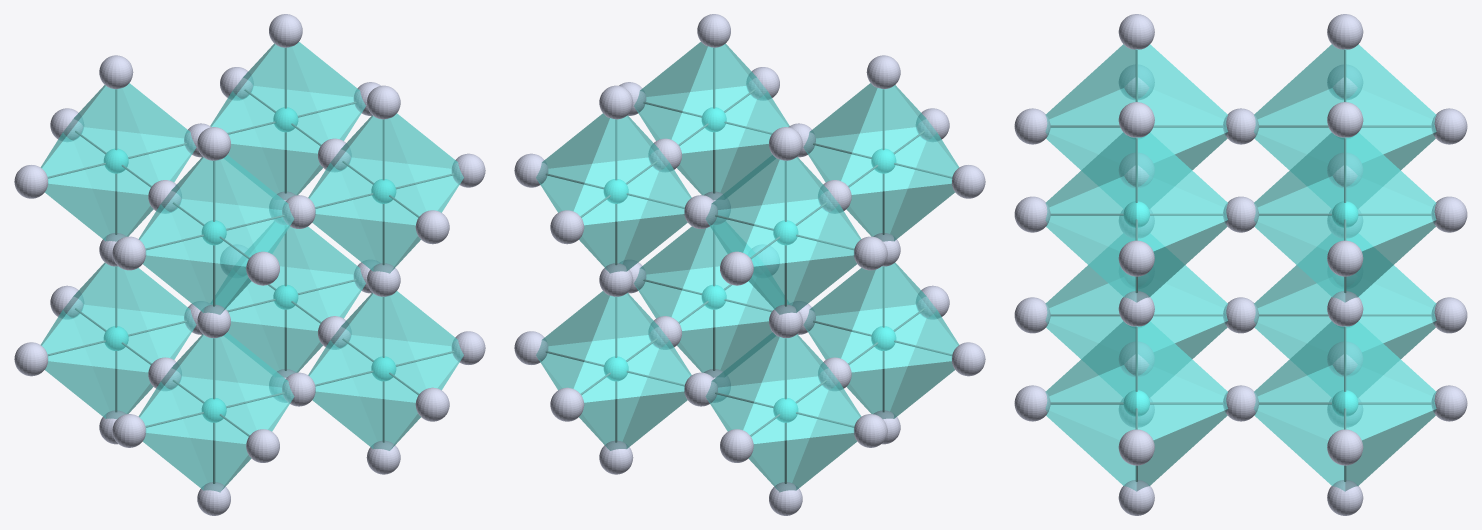
File: ReO3-unit.fbx
3 renders of one model, left to right at view 1: azimuth 30°, elevation 25°; view 2: azimuth 150°, elevation 25°; view 3: azimuth 270°, elevation 25°, orthographic. The views are drawn at different scales.
Parts seen in each view (by area): view 1: Shape_IndexedFaceSet.041, Shape_IndexedFaceSet.001, Shape_IndexedFaceSet.032, Shape_IndexedFaceSet.057, Shape_IndexedFaceSet.010, Shape_IndexedFaceSet.049, Shape_IndexedFaceSet.025, Shape_IndexedFaceSet.004, Shape_IndexedFaceSet.029, Shape_IndexedFaceSet.015, Shape_IndexedFaceSet.053, Shape_IndexedFaceSet.045 (+63 smaller); view 2: Shape_IndexedFaceSet.056, Shape_IndexedFaceSet.019, Shape_IndexedFaceSet.048, Shape_IndexedFaceSet.040, Shape_IndexedFaceSet.024, Shape_IndexedFaceSet.033, Shape_IndexedFaceSet.011, Shape_IndexedFaceSet.022, Shape_IndexedFaceSet.014, Shape_IndexedFaceSet.028, Shape_IndexedFaceSet.037, Shape_IndexedFaceSet.044 (+63 smaller); view 3: Shape_IndexedFaceSet.003, Shape_IndexedFaceSet.008, Shape_IndexedFaceSet.017, Shape_IndexedFaceSet.026, Shape_IndexedFaceSet.009, Shape_IndexedFaceSet.027, Shape_IndexedFaceSet, Shape_IndexedFaceSet.016, Shape_IndexedFaceSet.012, Shape_IndexedFaceSet.031, Shape_IndexedFaceSet.013, Shape_IndexedFaceSet.030 (+86 smaller).
Part boxes in pixels (x1=…): Shape_IndexedFaceSet.041: x1=140, y1=158, x2=256, y2=266; Shape_IndexedFaceSet.001: x1=309, y1=294, x2=426, y2=402; Shape_IndexedFaceSet.032: x1=140, y1=335, x2=256, y2=443; Shape_IndexedFaceSet.057: x1=42, y1=86, x2=158, y2=194; Shape_IndexedFaceSet.010: x1=309, y1=116, x2=425, y2=225; Shape_IndexedFaceSet.049: x1=42, y1=263, x2=158, y2=372; Shape_IndexedFaceSet.025: x1=212, y1=44, x2=328, y2=153; Shape_IndexedFaceSet.004: x1=341, y1=335, x2=457, y2=443; Shape_IndexedFaceSet.029: x1=243, y1=86, x2=359, y2=194; Shape_IndexedFaceSet.015: x1=341, y1=158, x2=457, y2=265; Shape_IndexedFaceSet.053: x1=74, y1=305, x2=189, y2=413; Shape_IndexedFaceSet.045: x1=171, y1=199, x2=287, y2=307; Shape_IndexedFaceSet.056: x1=743, y1=158, x2=859, y2=266; Shape_IndexedFaceSet.019: x1=573, y1=294, x2=690, y2=402; Shape_IndexedFaceSet.048: x1=743, y1=335, x2=859, y2=443; Shape_IndexedFaceSet.040: x1=841, y1=86, x2=957, y2=194; Shape_IndexedFaceSet.024: x1=574, y1=116, x2=690, y2=225; Shape_IndexedFaceSet.033: x1=841, y1=263, x2=957, y2=372; Shape_IndexedFaceSet.011: x1=671, y1=44, x2=787, y2=153; Shape_IndexedFaceSet.022: x1=542, y1=335, x2=658, y2=443; Shape_IndexedFaceSet.014: x1=640, y1=86, x2=756, y2=194; Shape_IndexedFaceSet.028: x1=542, y1=158, x2=658, y2=265; Shape_IndexedFaceSet.037: x1=810, y1=305, x2=925, y2=413; Shape_IndexedFaceSet.044: x1=810, y1=127, x2=925, y2=235; Shape_IndexedFaceSet.003: x1=1136, y1=321, x2=1227, y2=439; Shape_IndexedFaceSet.008: x1=1136, y1=132, x2=1227, y2=251; Shape_IndexedFaceSet.017: x1=1254, y1=321, x2=1345, y2=439; Shape_IndexedFaceSet.026: x1=1254, y1=132, x2=1345, y2=251; Shape_IndexedFaceSet.009: x1=1045, y1=132, x2=1136, y2=251; Shape_IndexedFaceSet.027: x1=1345, y1=132, x2=1436, y2=251; Shape_IndexedFaceSet: x1=1045, y1=321, x2=1136, y2=439; Shape_IndexedFaceSet.016: x1=1345, y1=321, x2=1436, y2=439; Shape_IndexedFaceSet.012: x1=1046, y1=176, x2=1135, y2=296; Shape_IndexedFaceSet.031: x1=1346, y1=176, x2=1435, y2=296; Shape_IndexedFaceSet.013: x1=1138, y1=176, x2=1226, y2=296; Shape_IndexedFaceSet.030: x1=1255, y1=176, x2=1343, y2=296.
Bounding box in the file's own units: 833 × 833 × 833.
